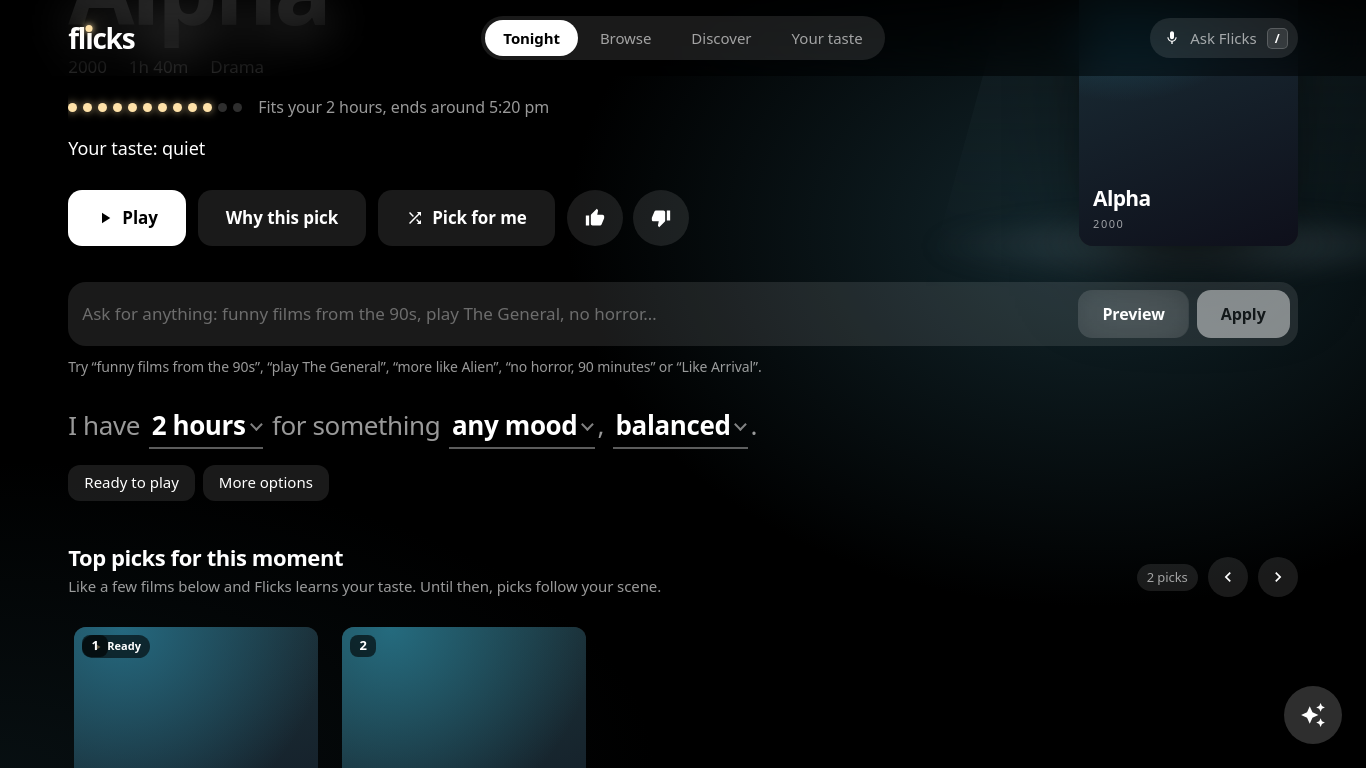
Test case: a mood chip re-ranks the picks with the new scene
The image size is (1366, 768).
(page scrolled)
Click the button with aria-label "Mood: any mood. Change": (522,427) left=449, top=405, right=595, bottom=449
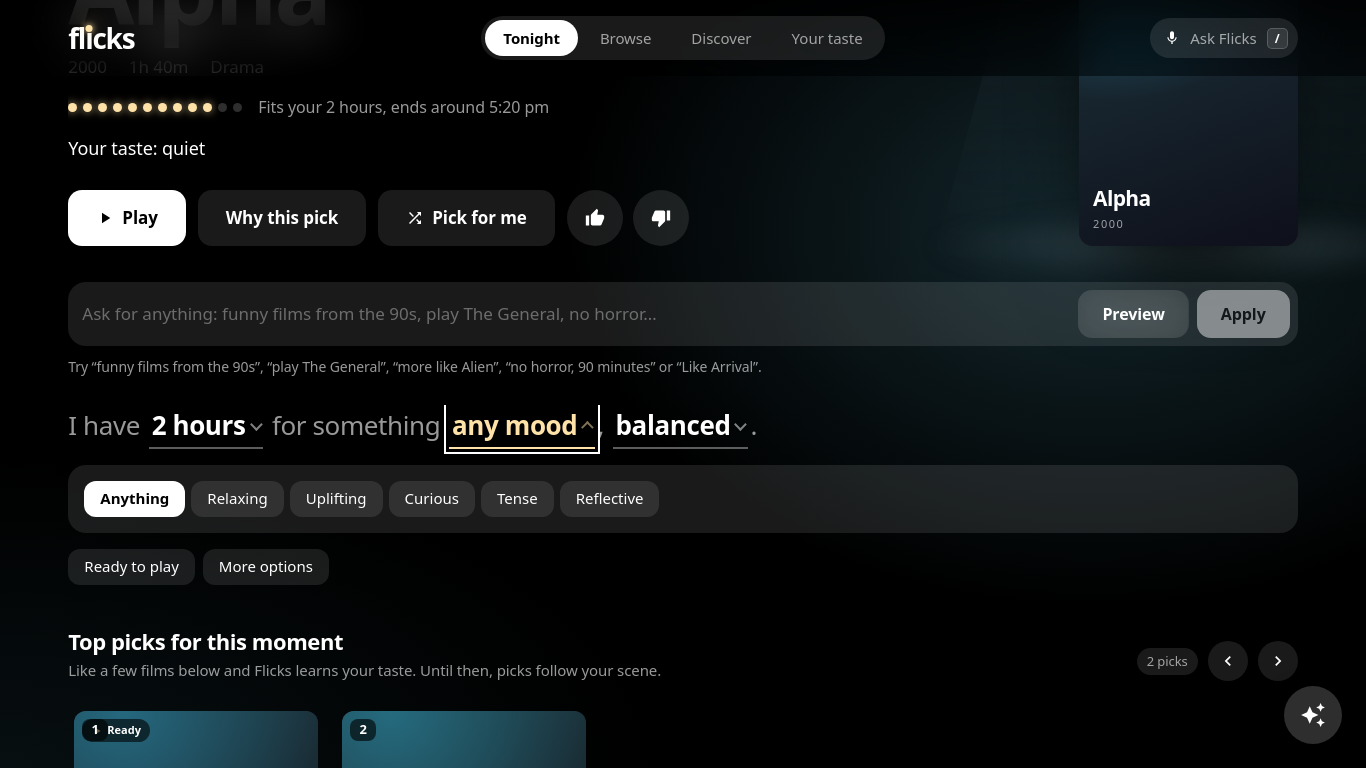
Click the radio button labelled "Tense": (517,499) left=481, top=481, right=554, bottom=517
(page scrolled)
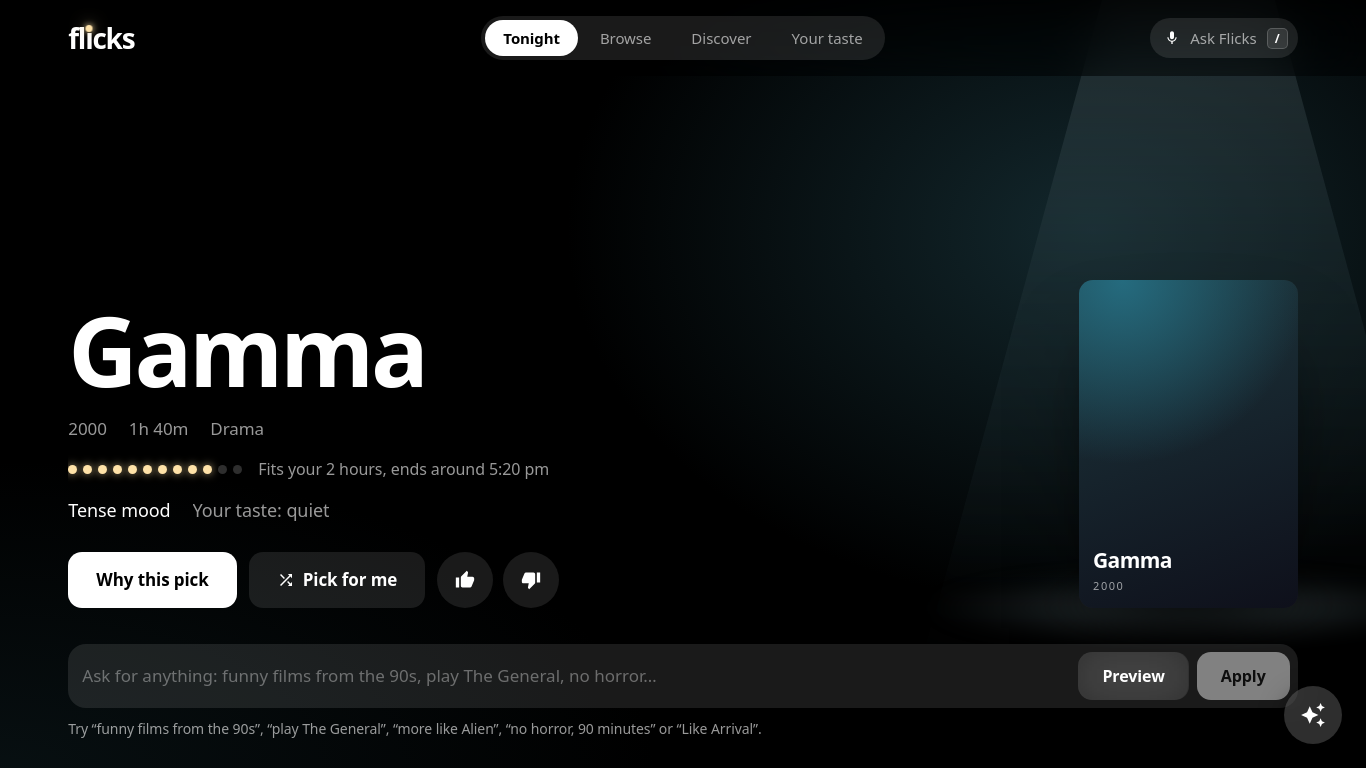
Expected: the heading named "Gamma" is shown, left=68, top=284, right=426, bottom=415
